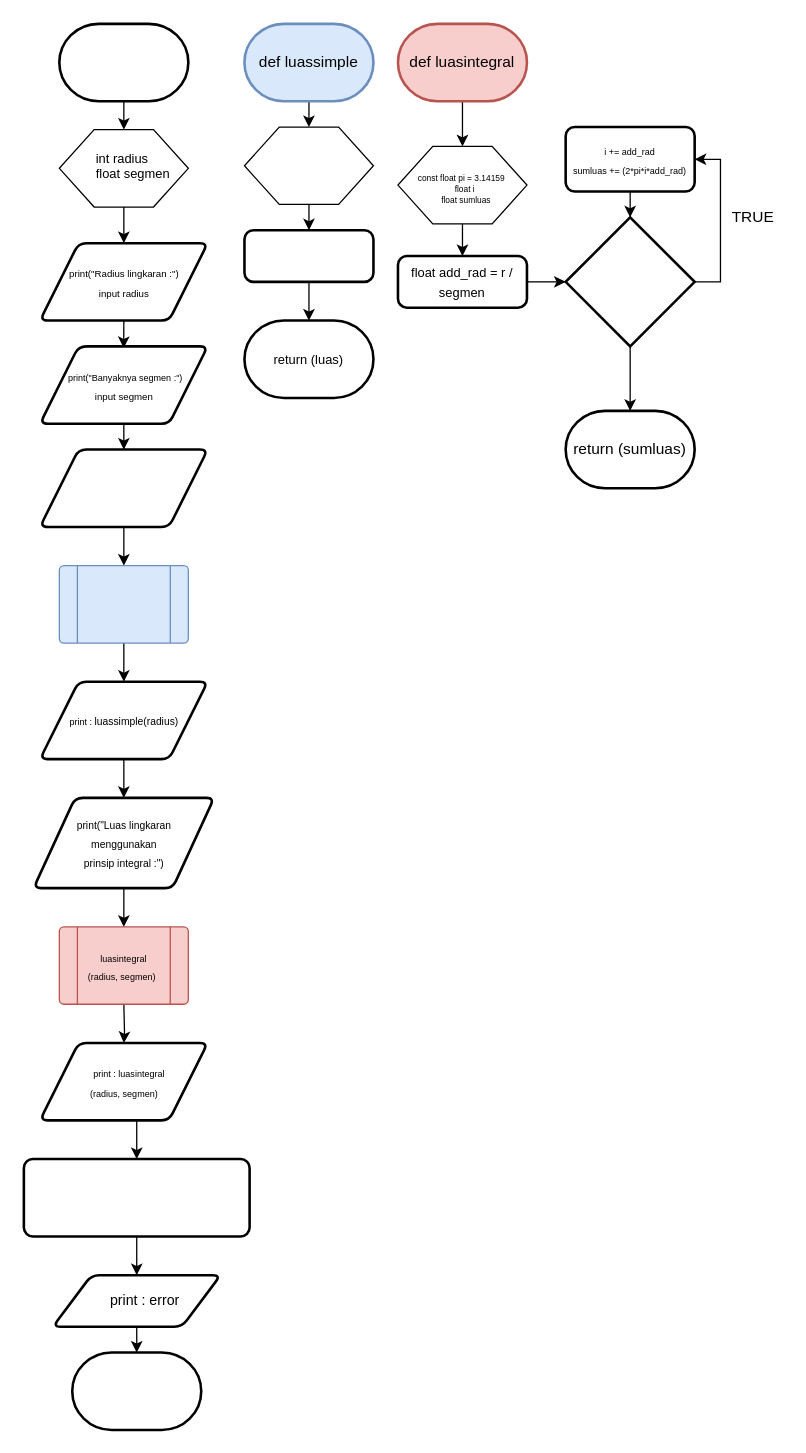
Some shapes in this 806 by 1453 pixel diagram are drawn without their labels. Each missing label, with the centre of its shape:
const double pi = 3.14159 double luas: the point at 308,165
Error= luassimple(radius) - luasintegral (radius, segmen): the point at 136,1197
i <= r ?: the point at 629,281
luas = pi * pow(r,2): the point at 308,255
luassimple(radius): the point at 123,603
print("Luas lingkaran secara matematis :"): the point at 123,488
START: the point at 123,62
STOP: the point at 136,1391
